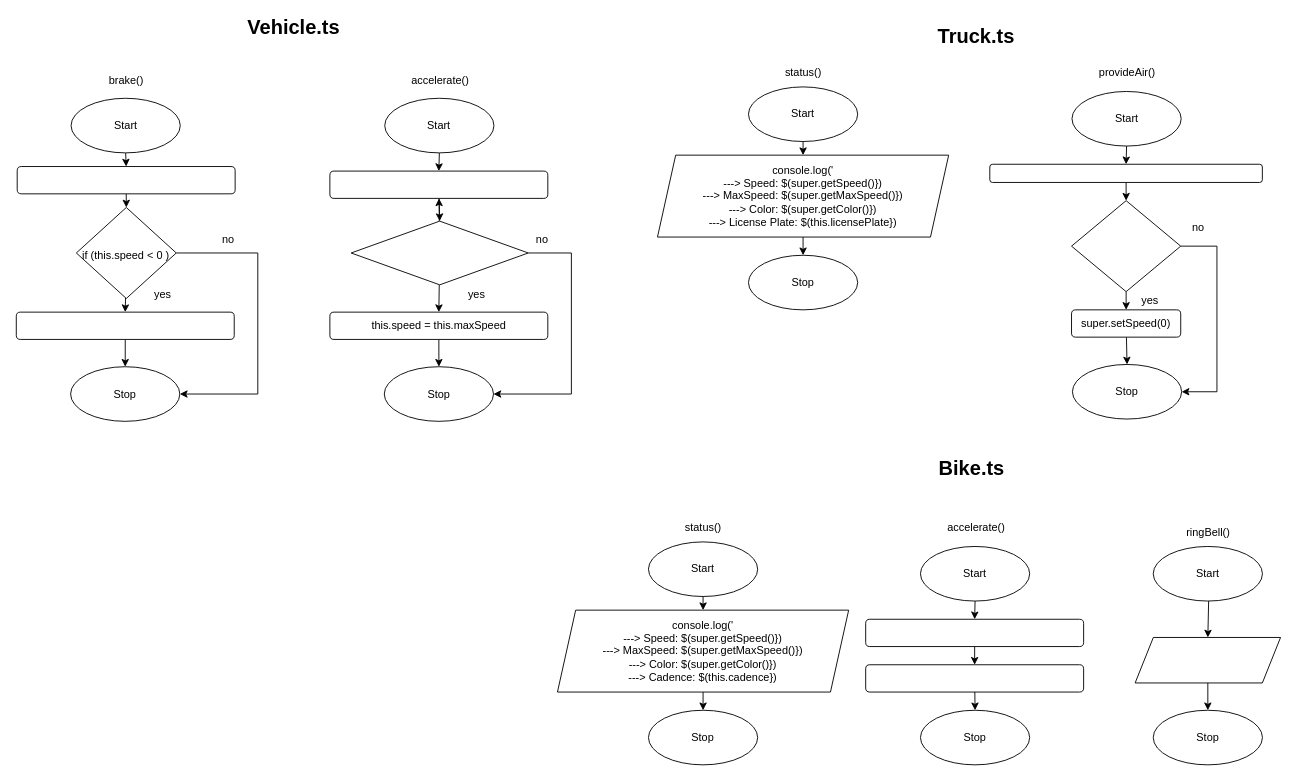
Image size: 1297x781. Some labels were removed from this diagram. The shapes that lost their labels are listed below. From the top down, each one's centre as x and y in pixels, then its label:
the point at 125,180: this.speed = this.speed - breakPower * breakTime
the point at 438,184: this.speed = accelerationPower * accelerationTime + this.speed
the point at 1125,172: super.setSpeed(super.getSpeed() - airPressure / 2)
the point at 439,252: if (this.speed > this.maxSpeed)
the point at 1126,246: if (super.getSpeed()) < 0
the point at 124,325: this.speed = 0
the point at 974,632: this.cadence = this.cadence + appliedPower
the point at 974,678: super.setSpeed(this,cadence * 2)
the point at 1207,660: console.log('Ding ding!')
